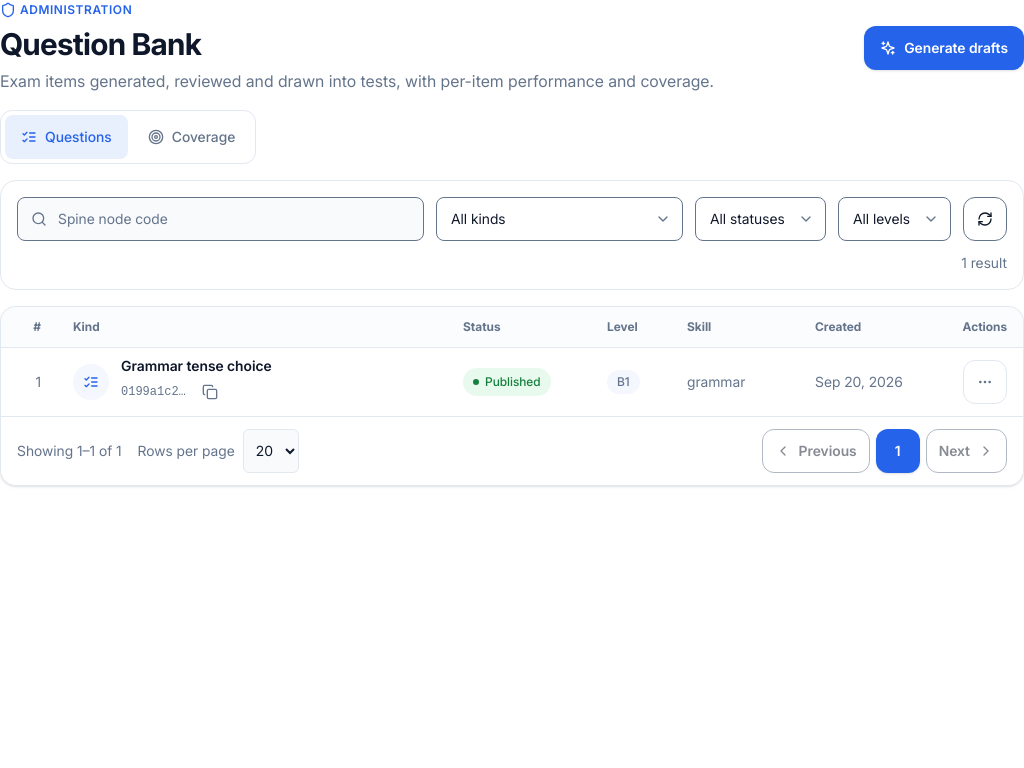
Test: AdminQuestionBank › opens stats in a Modal dialog and closes it on Escape
This screenshot has width=1024, height=768.
Click the button named "Actions for Grammar tense choice" at [985, 382], box [963,360,1007,404]
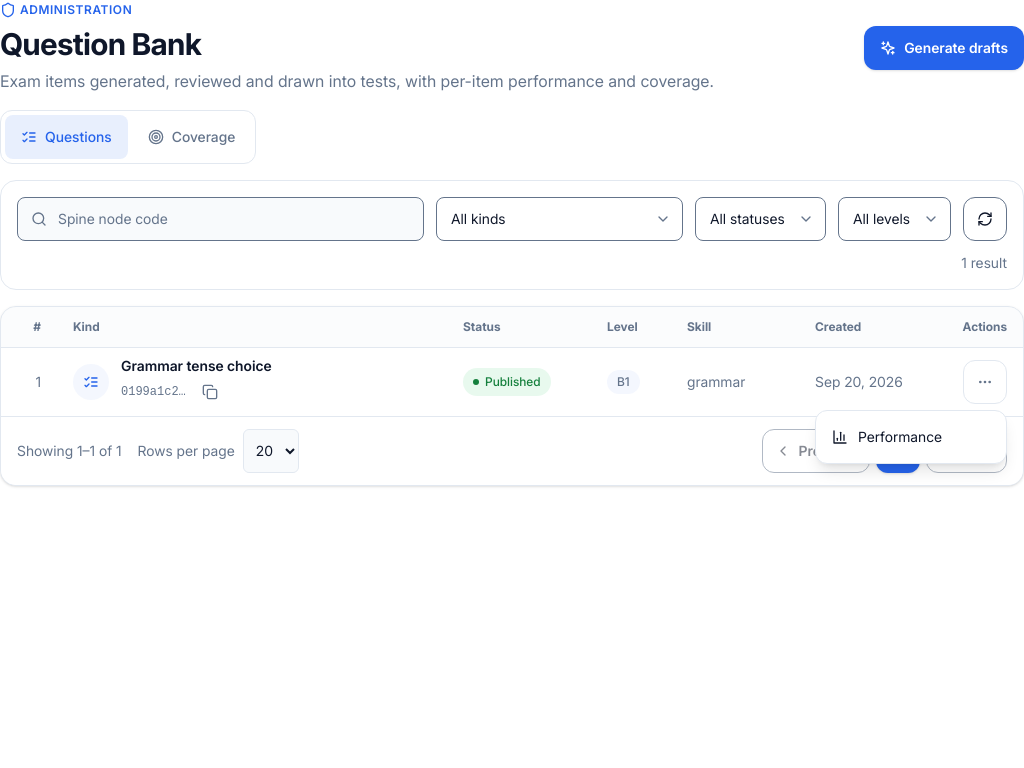
Click the menu item "Performance" at [887, 436], box [832,428,942,445]
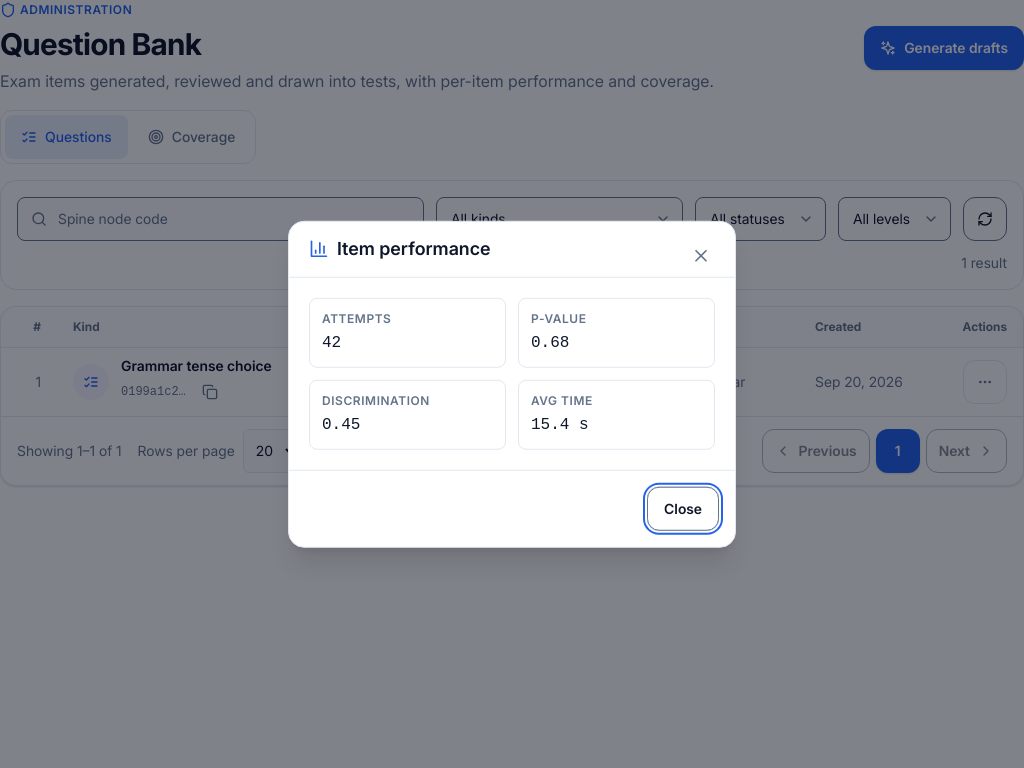
Expected: the heading "Item performance" is shown, [309,238,490,259]
Expected: the text "0.68" is shown, [531,333,569,351]
Press Escape
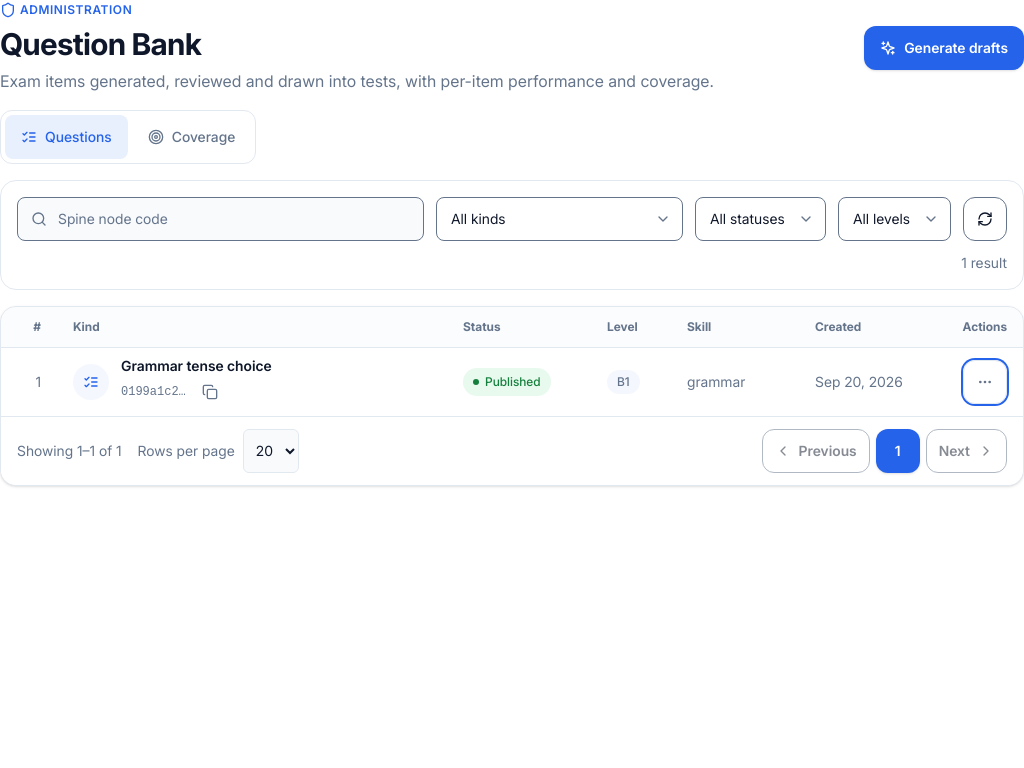
Expected: the dialog is gone
